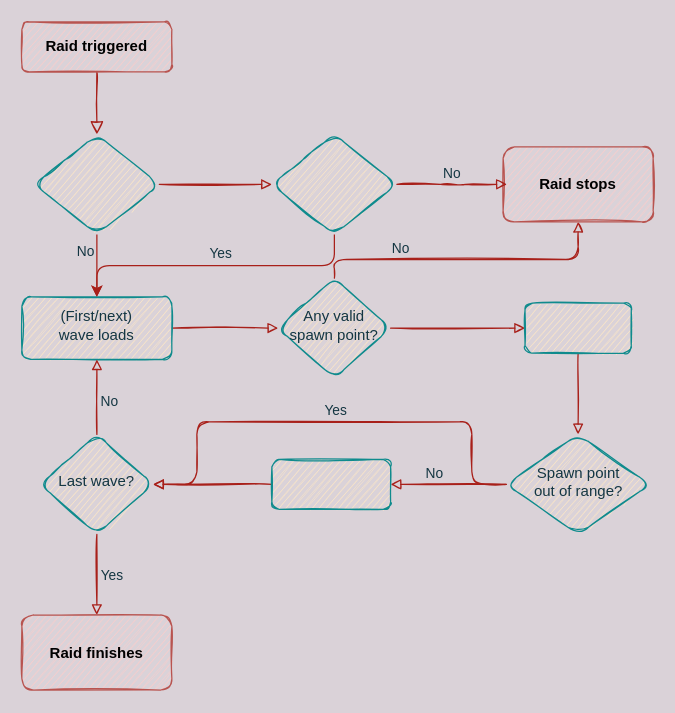
Image size: 675x713. Some labels were removed from this diagram. Each missing label, with the centre of its shape:
"Artificial village centers only?" goes at [96,183].
"Is in artificial village center?" goes at [334,183].
"Players beat the wave" goes at [331,483].
"Wave spawns" goes at [577,327].
